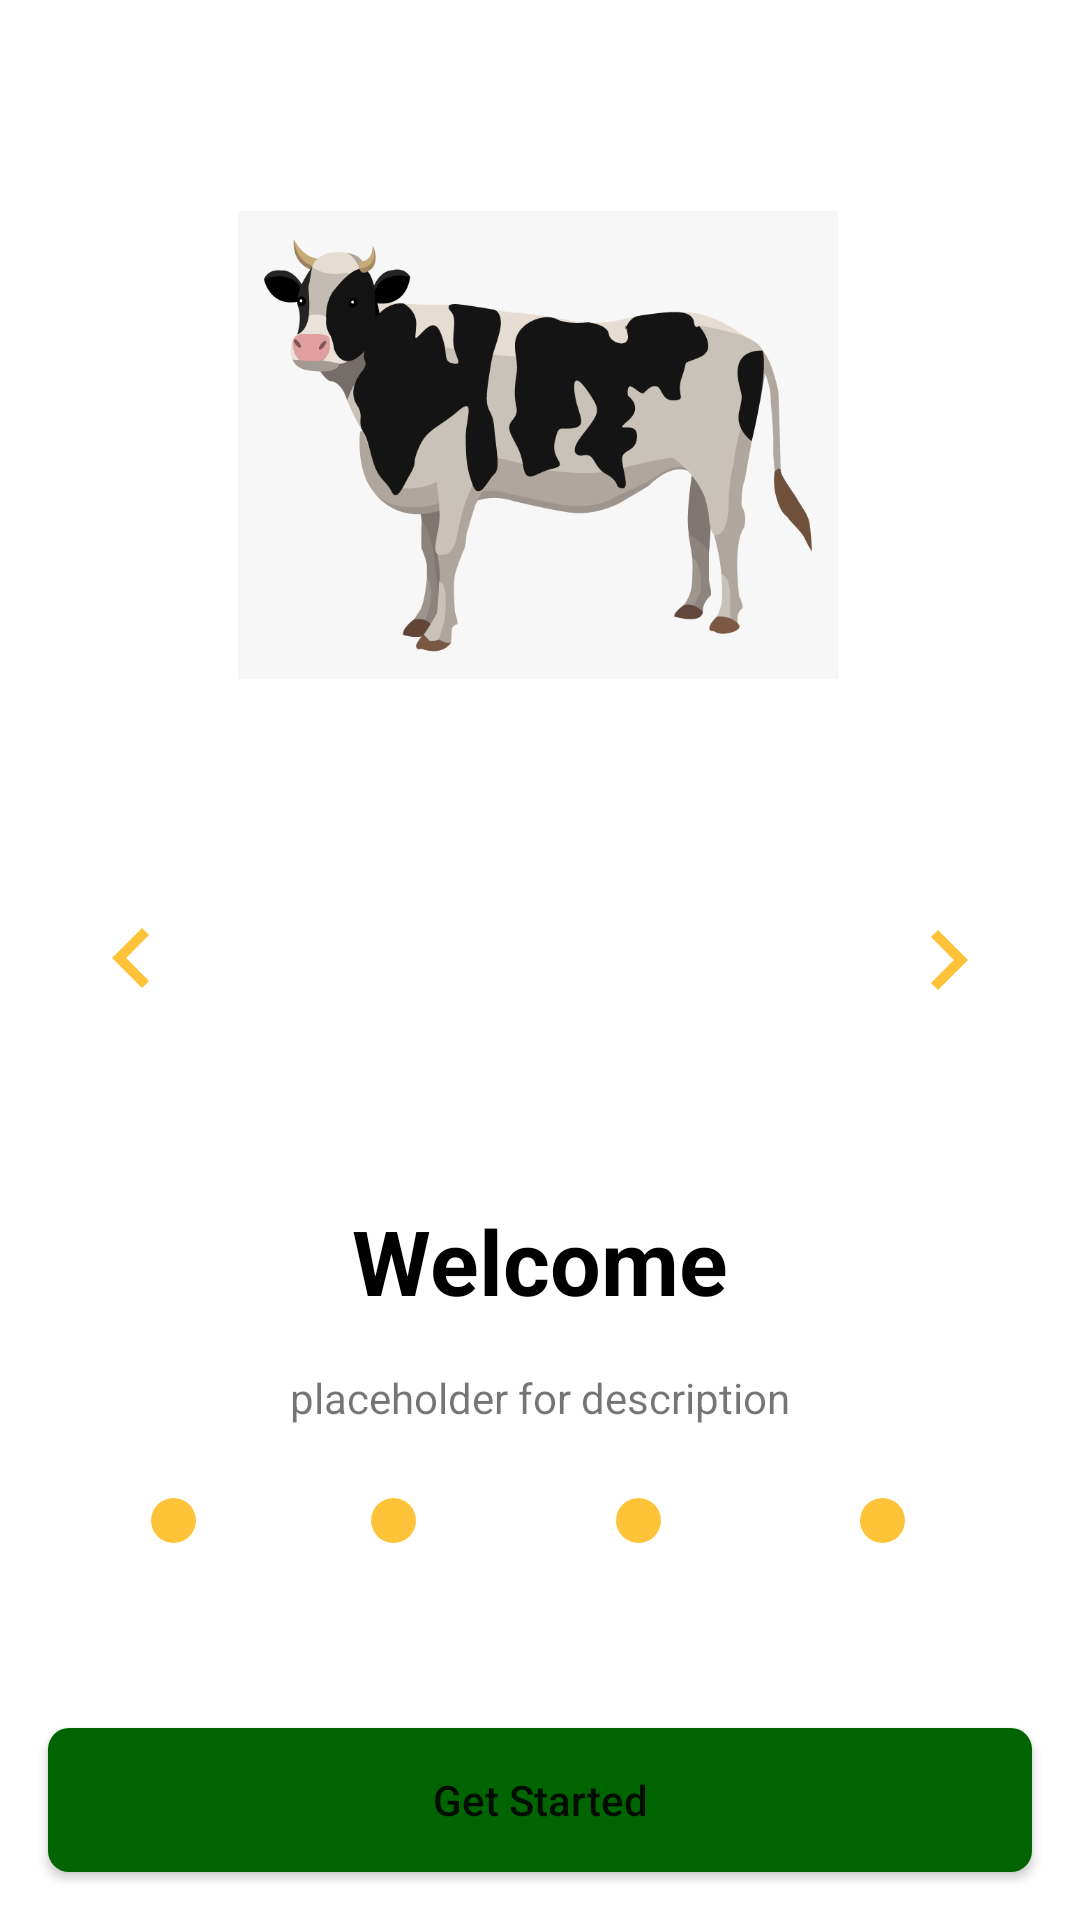

Point at icon controls on the screen. Image size 1080 x 1920, points as (x=x, y=y).
Next: (x=949, y=960)
Previous: (x=130, y=958)
